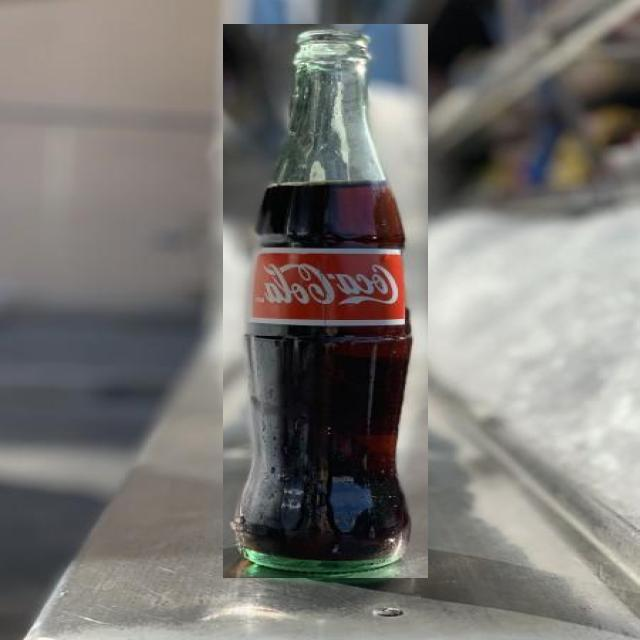coca-cola: (223, 24, 428, 578)
